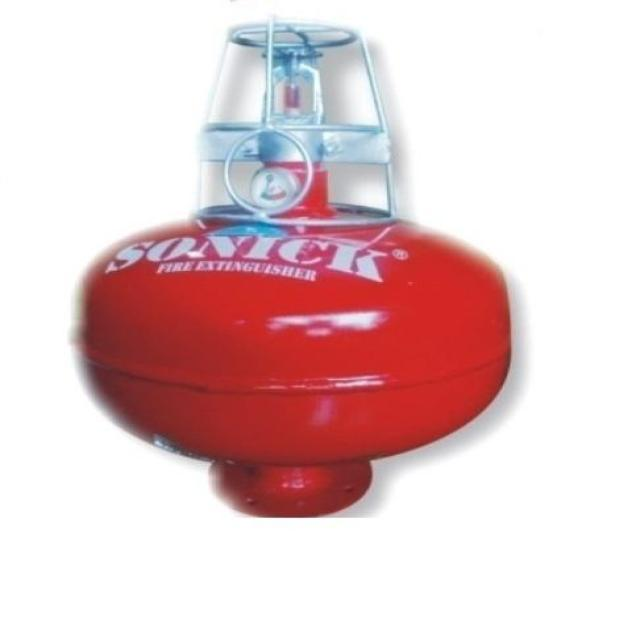fire_extinguisher: (61, 17, 516, 518)
